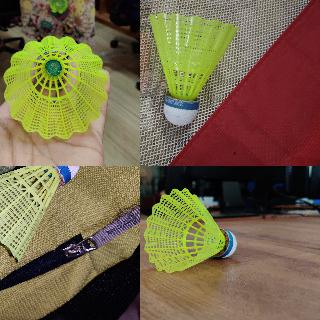shuttlecock: (3, 35, 107, 138), (148, 13, 238, 125), (143, 185, 237, 273), (0, 166, 87, 258)
